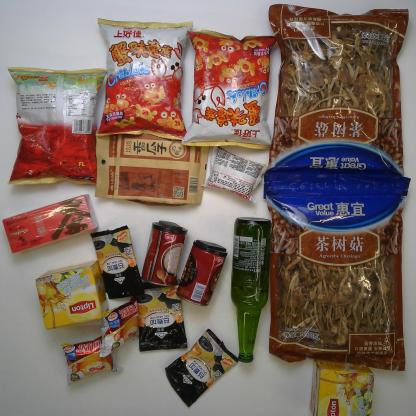Alcohol: (230, 216, 271, 363)
Canned Food: (176, 239, 227, 307), (140, 221, 188, 286)
Dessert: (201, 142, 268, 204), (59, 333, 121, 385), (100, 296, 140, 357)
Dried Food: (265, 171, 411, 373), (264, 3, 409, 195), (95, 125, 210, 206)
Instant Drink: (165, 328, 239, 408), (2, 195, 98, 253), (36, 260, 109, 329), (90, 224, 146, 298), (133, 278, 187, 351), (309, 356, 374, 414)
Puffed Food: (95, 17, 194, 141), (7, 66, 109, 186), (181, 28, 278, 150)
